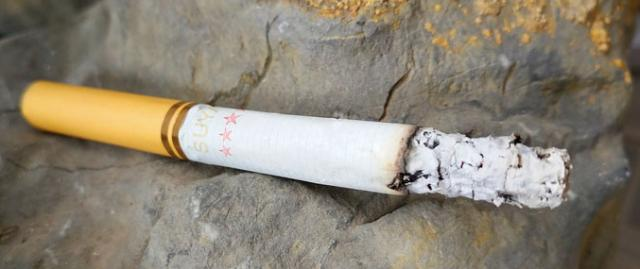Cigarette: (21, 80, 573, 212)
